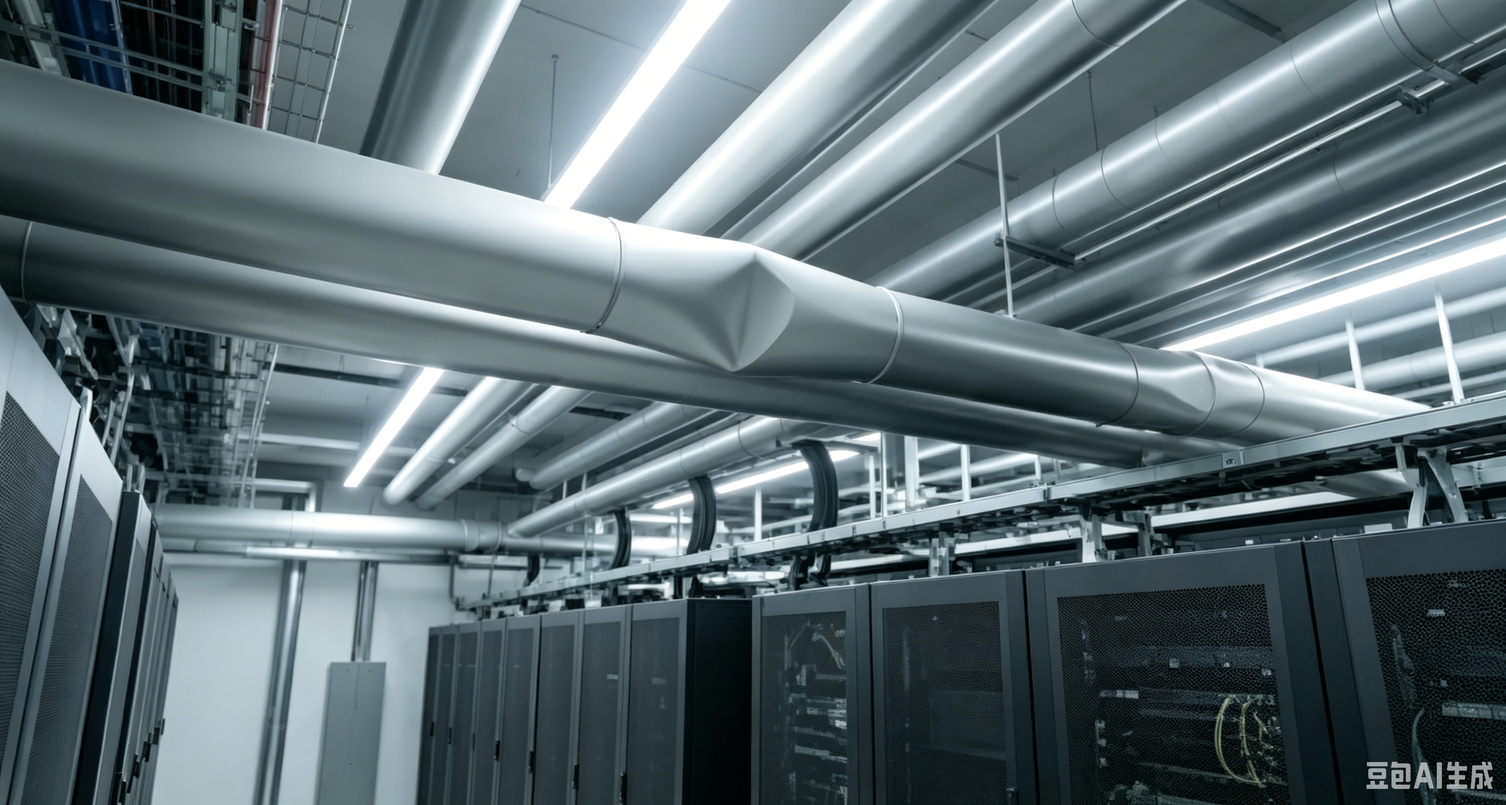Leakage: (665, 247, 824, 372)
